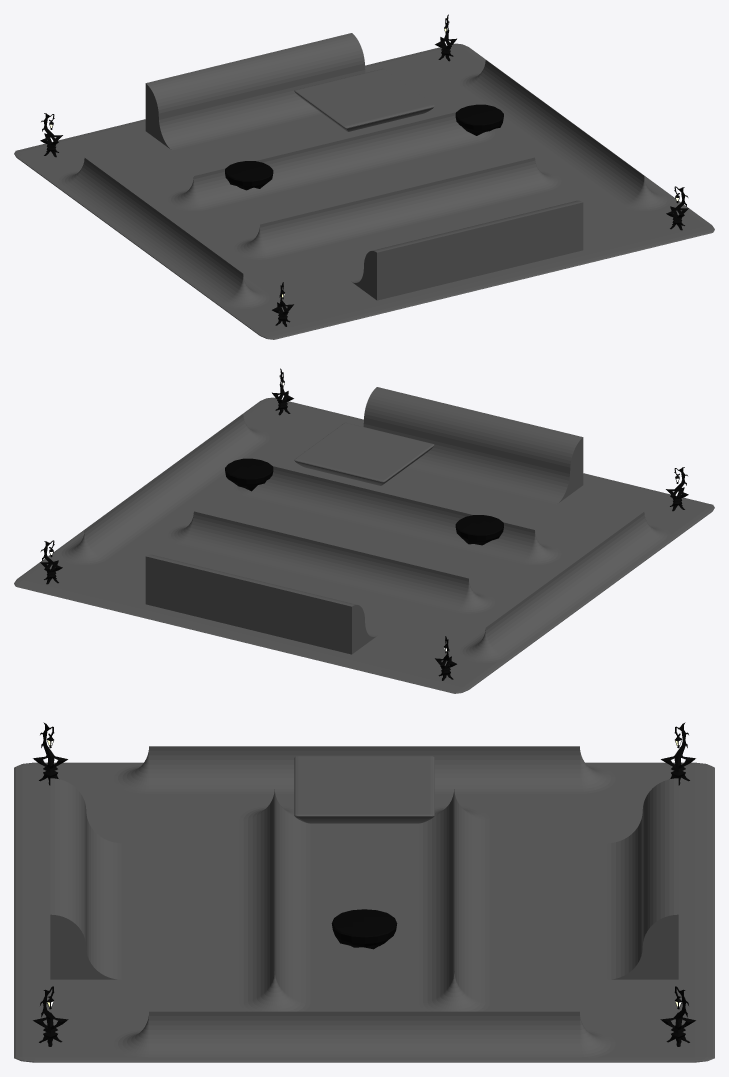
Rendered from world3.glb.
3 views of the same model, one above another, from view 1: azimuth 30°, elevation 25°; view 2: azimuth 150°, elevation 25°; view 3: azimuth 270°, elevation 25° (orthographic). The views are drawn at different scales.
Parts seen in each view (by area): view 1: Platform.001, Cube.012, Cube.001, Cube, Cube.009, Cube.006, Platform, PlatformFloating, Lamp, Cube.010, Cube.007, Cube.002 (+1 smaller); view 2: Platform.001, Cube.012, Cube, Cube.001, Cube.009, Cube.006, Platform, PlatformFloating, Lamp, Cube.011, Cube.008, Cube.004 (+1 smaller); view 3: Platform.001, Cube.012, Cube.006, Cube.009, Cube, Cube.001, Platform, Lamp, PlatformFloating, Cube.003, Cube.005, Cube.007 (+3 smaller).
Part boxes in pixels (<box>): Platform.001: <box>14,43,714,339</box>; Cube.012: <box>145,33,583,300</box>; Cube.001: <box>247,157,547,257</box>; Cube: <box>181,112,481,209</box>; Cube.009: <box>62,158,265,303</box>; Cube.006: <box>463,60,666,205</box>; Platform: <box>294,68,434,131</box>; PlatformFloating: <box>225,104,503,190</box>; Lamp: <box>40,14,688,326</box>; Cube.010: <box>221,276,269,308</box>; Cube.007: <box>622,177,670,210</box>; Cube.002: <box>234,227,272,259</box>; Platform.001: <box>14,397,714,693</box>; Cube.012: <box>145,387,583,654</box>; Cube: <box>181,511,481,611</box>; Cube.001: <box>247,466,547,563</box>; Cube.009: <box>463,512,666,657</box>; Cube.006: <box>62,414,265,559</box>; Platform: <box>294,422,434,485</box>; PlatformFloating: <box>225,458,503,545</box>; Lamp: <box>40,368,688,680</box>; Cube.011: <box>459,630,507,662</box>; Cube.008: <box>58,531,106,564</box>; Cube.004: <box>456,581,494,613</box>; Platform.001: <box>14,762,714,1062</box>; Cube.012: <box>50,778,678,979</box>; Cube.006: <box>149,1011,579,1059</box>; Cube.009: <box>149,746,579,793</box>; Cube: <box>418,789,489,1002</box>; Cube.001: <box>239,789,310,1002</box>; Platform: <box>294,756,434,823</box>; Lamp: <box>33,722,695,1046</box>; PlatformFloating: <box>331,909,397,949</box>; Cube.003: <box>239,971,309,1011</box>; Cube.005: <box>419,971,489,1011</box>; Cube.007: <box>113,1016,148,1059</box>.
Size of the model in its own units: 78.95 by 17.25 by 78.11.
Materials: 18 (2 with a texture image).
